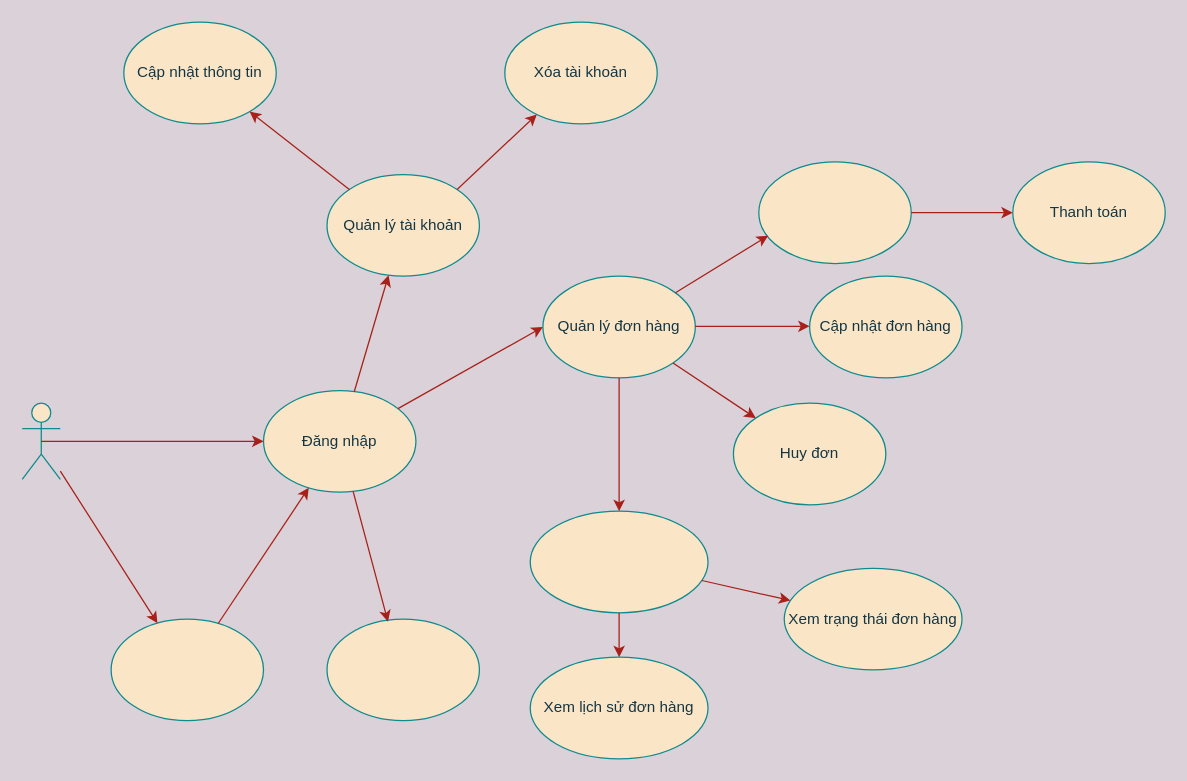
This 1187x781 diagram has some shape labels left out. Each missing label, with the centre of its shape:
"Actor" belongs at point 40,440.
"Tìm kiếm sản phẩm" belongs at point 402,669.
"Xem thông tin đơn hàng" belongs at point 618,561.
"Đăng ký tài khoản" belongs at point 187,669.
"Đặt hàng" belongs at point 834,212.
